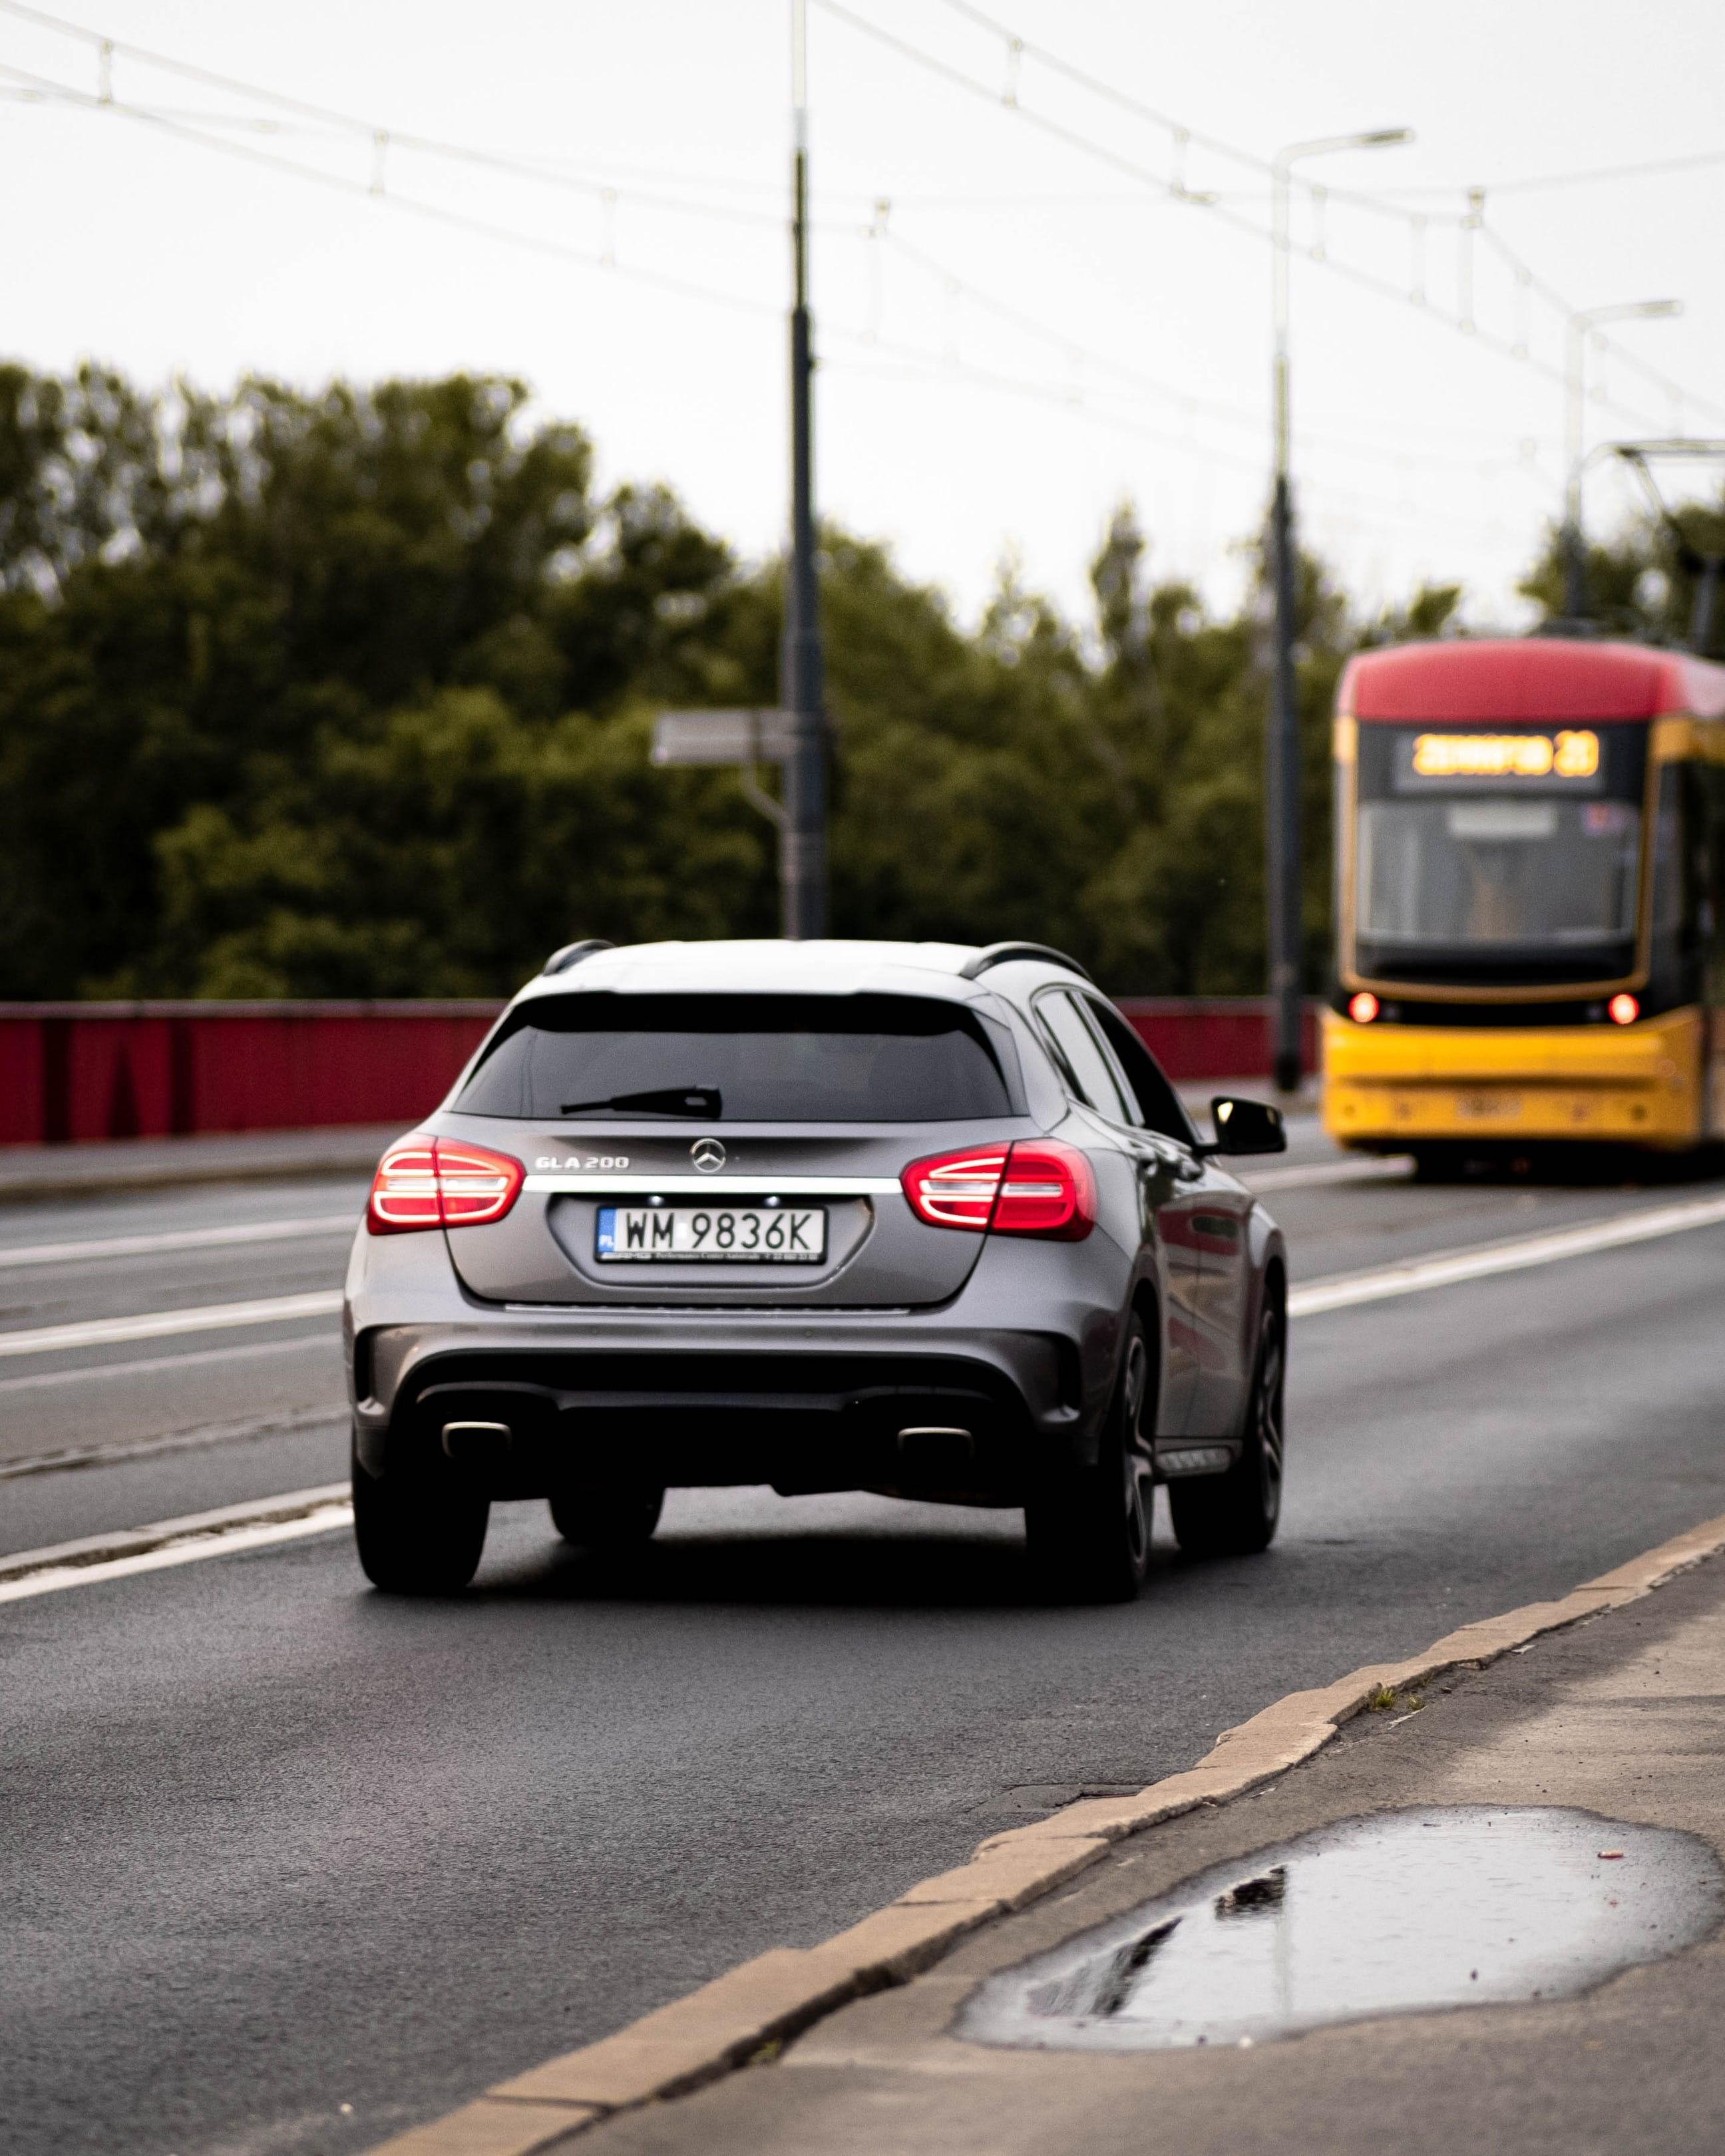plaka: (593, 1203, 829, 1256)
